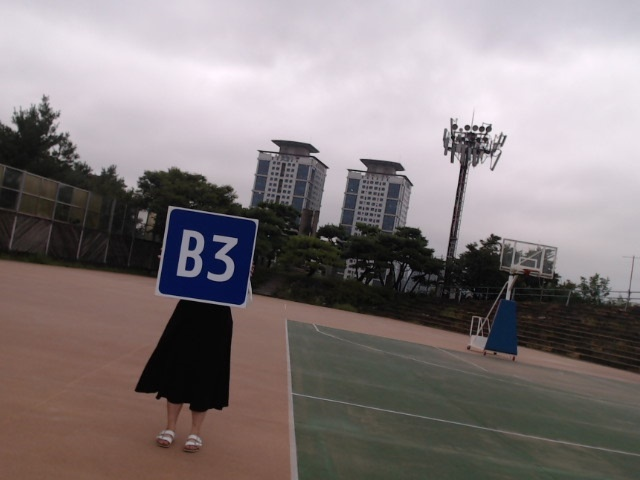delivery_b3: (157, 207, 260, 307)
